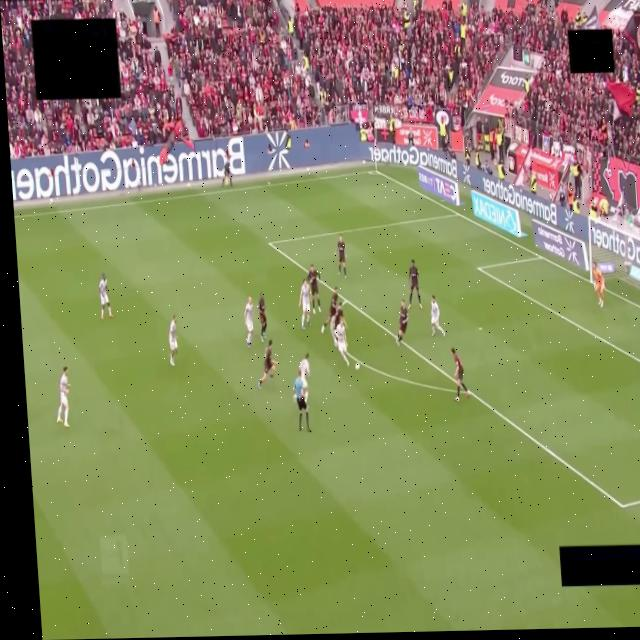ball: (355, 363, 359, 370)
player: (257, 340, 277, 388), (451, 348, 469, 401), (56, 367, 69, 427), (321, 287, 337, 335), (394, 299, 410, 345), (334, 322, 349, 366), (408, 260, 421, 309), (98, 274, 112, 319), (307, 265, 320, 313), (430, 295, 444, 336), (299, 279, 310, 329), (592, 262, 604, 307), (334, 236, 346, 278), (299, 354, 309, 401), (243, 297, 252, 347), (168, 316, 177, 365), (332, 304, 344, 337), (258, 293, 266, 342)
referee: (293, 370, 310, 432)
